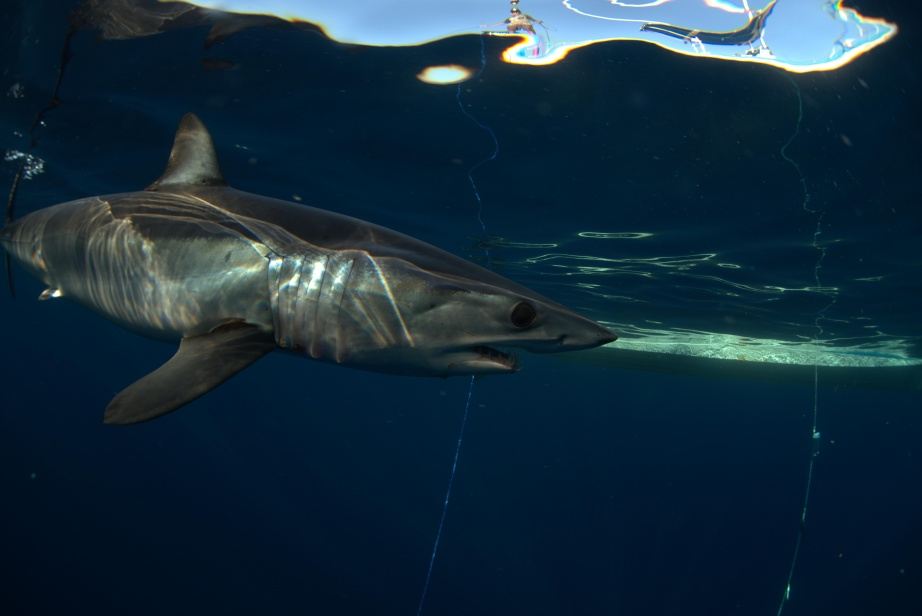Mako: (1, 106, 624, 436)
